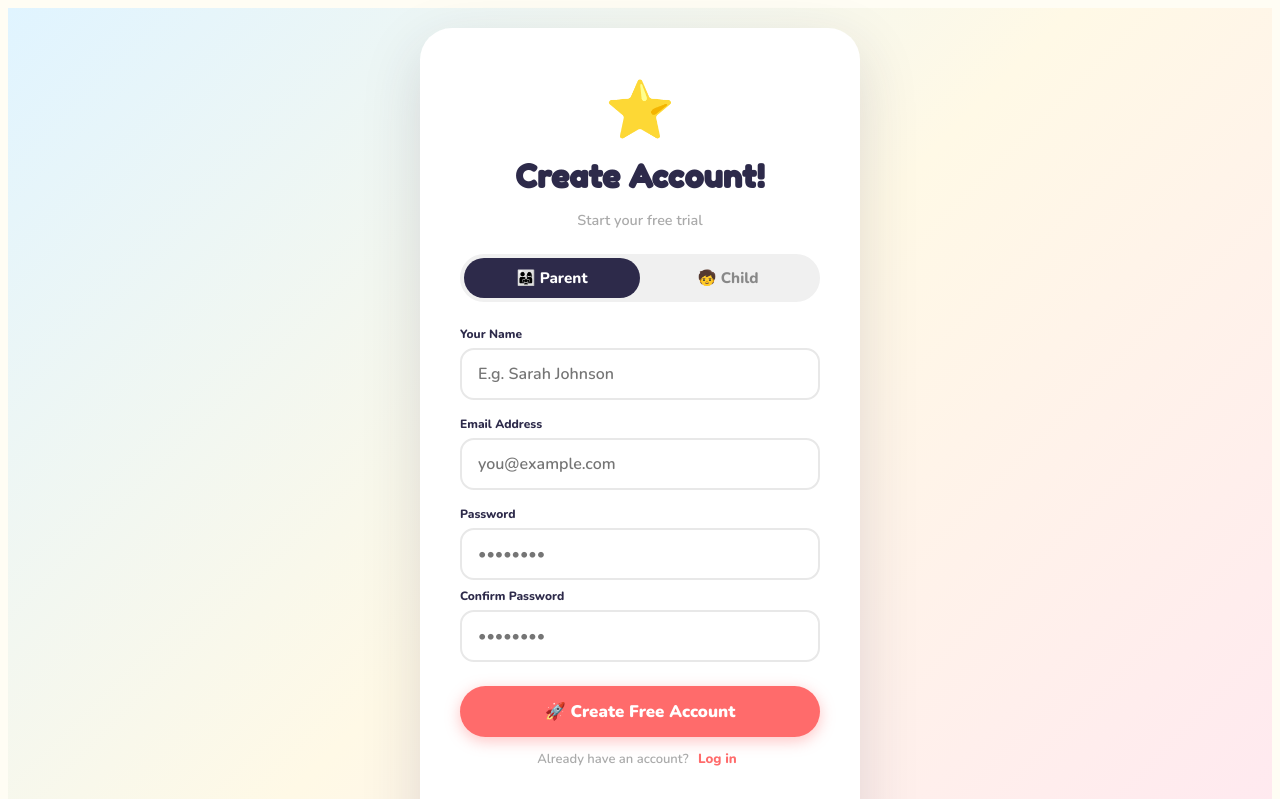
Test: 🔐 Auth Screen — Parent › shows error when passwords dont match on signup
Type "Test User" into the field with placeholder "E.g. Sarah Johnson".
click(640, 374); type("Test User")  # box [460,348,820,400]
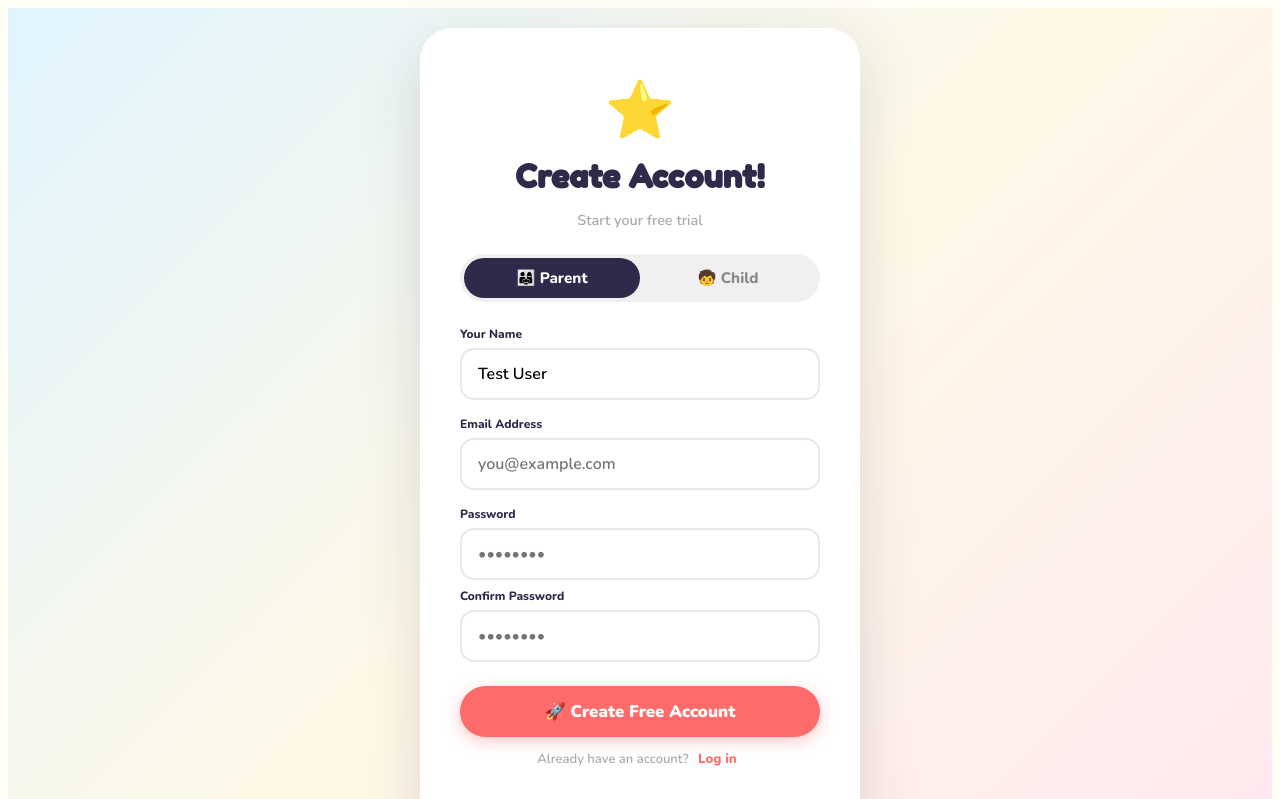
Type "test@test.com" into the field with placeholder "you@example.com".
click(640, 464); type("test@test.com")  # box [460,438,820,490]
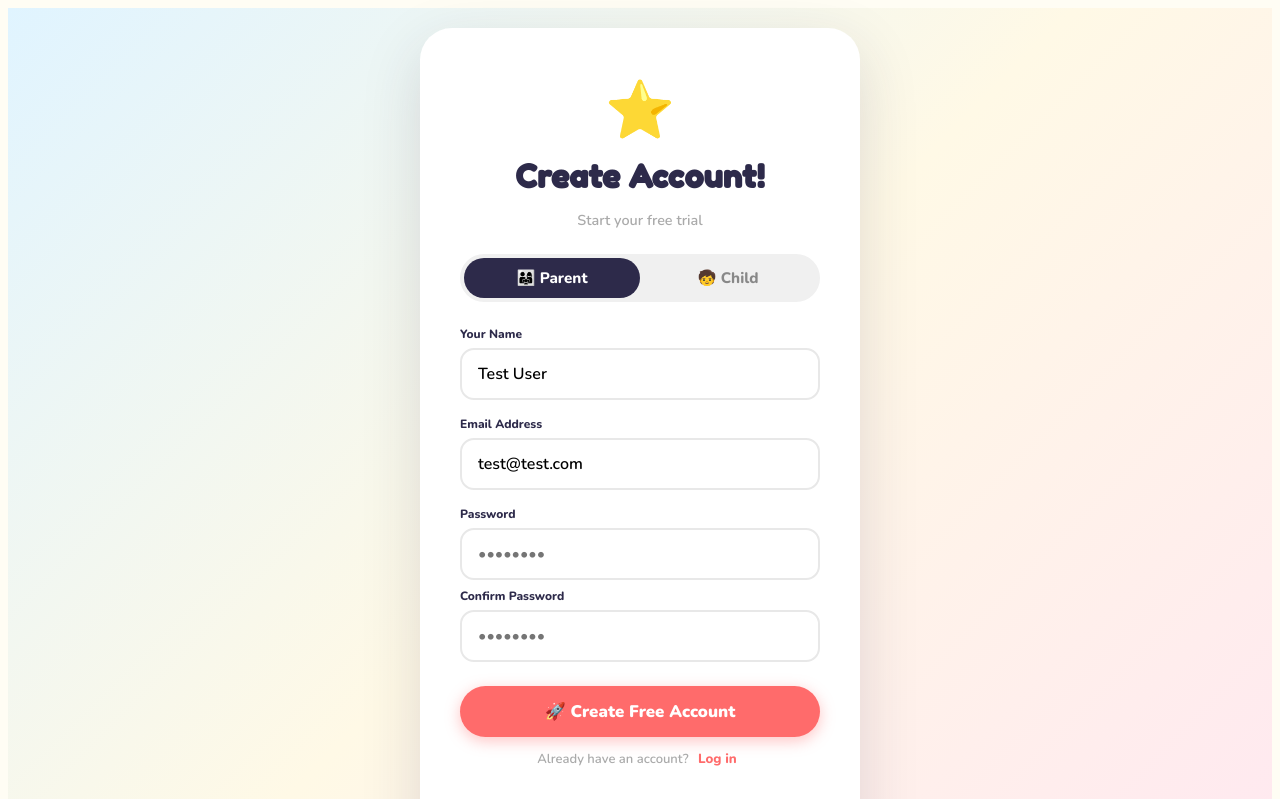
Type "password123" into the 1st password field with placeholder "••••••••".
click(640, 554); type("password123")  # box [460,528,820,580]
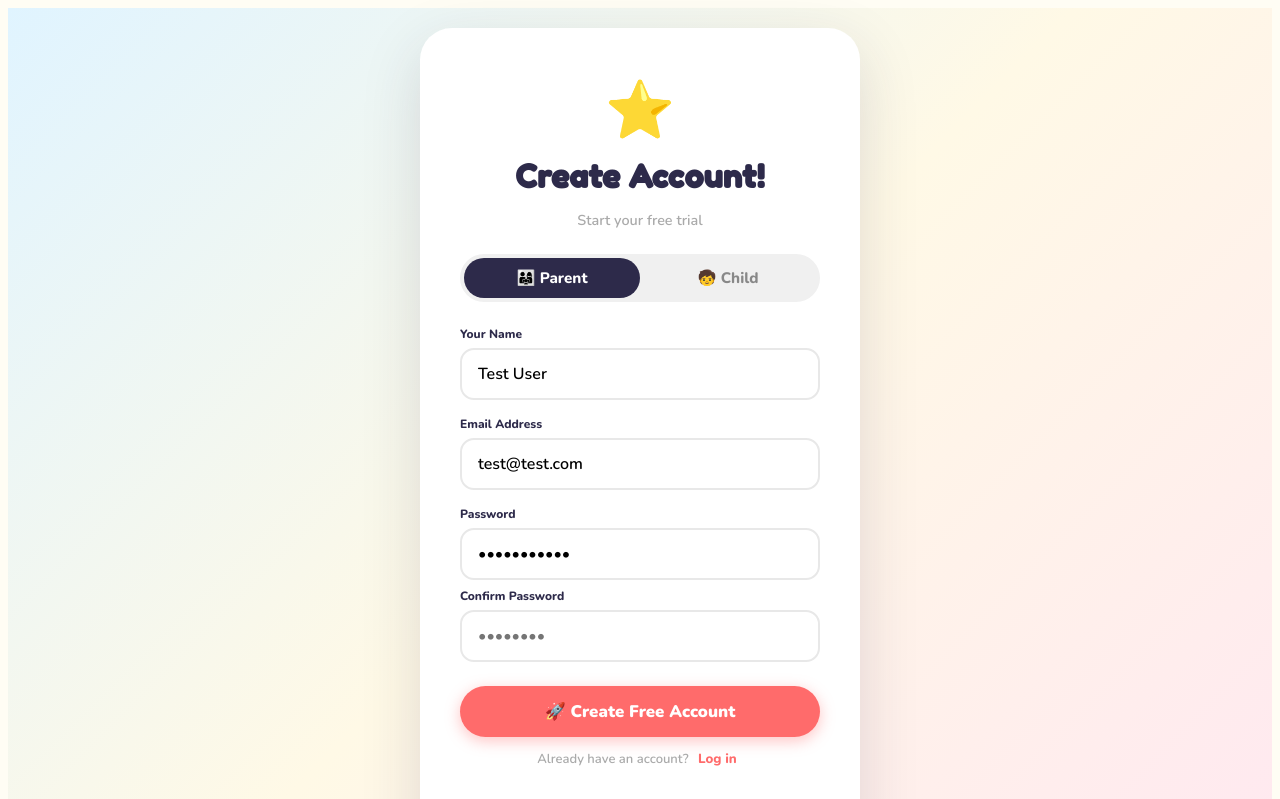
Type "different123" into the password field with placeholder "••••••••".
click(640, 636); type("different123")  # box [460,610,820,662]
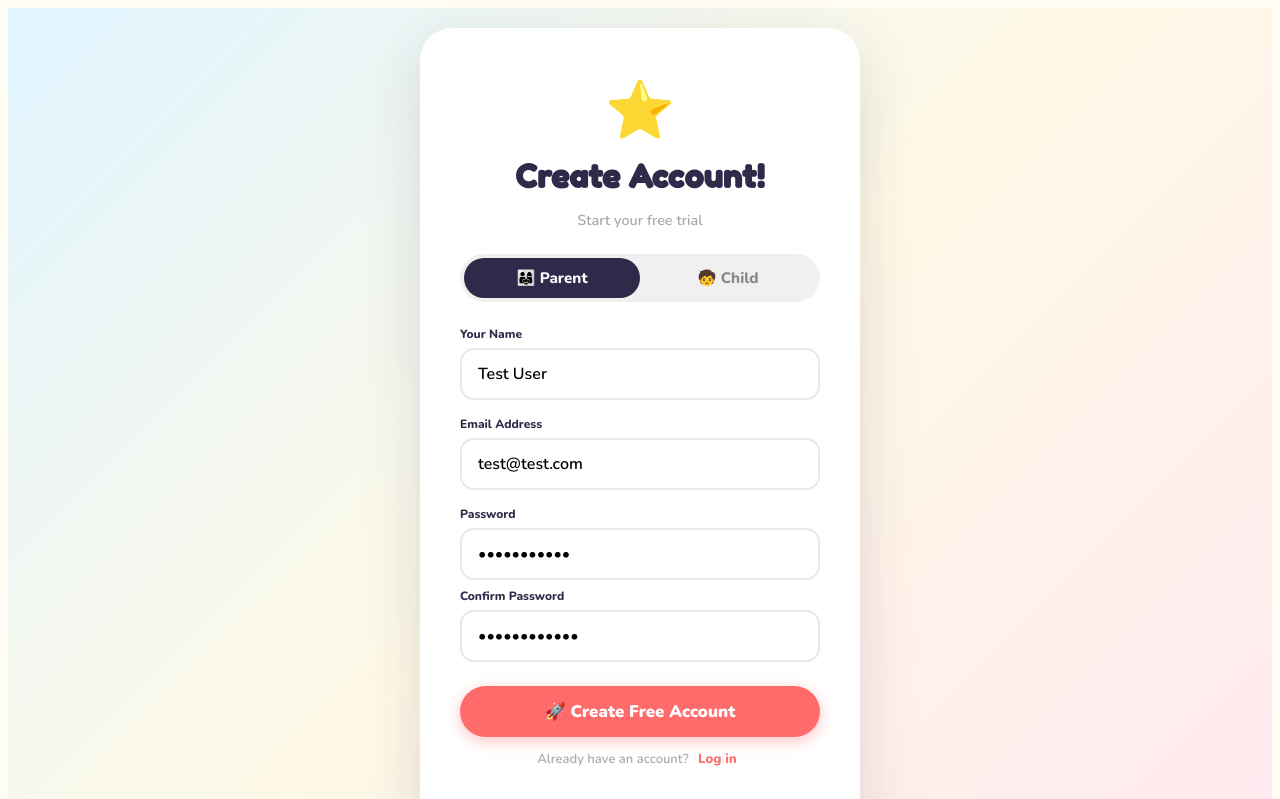
Click the button "🚀 Create Free Account".
click(640, 712)  # box [460,686,820,737]
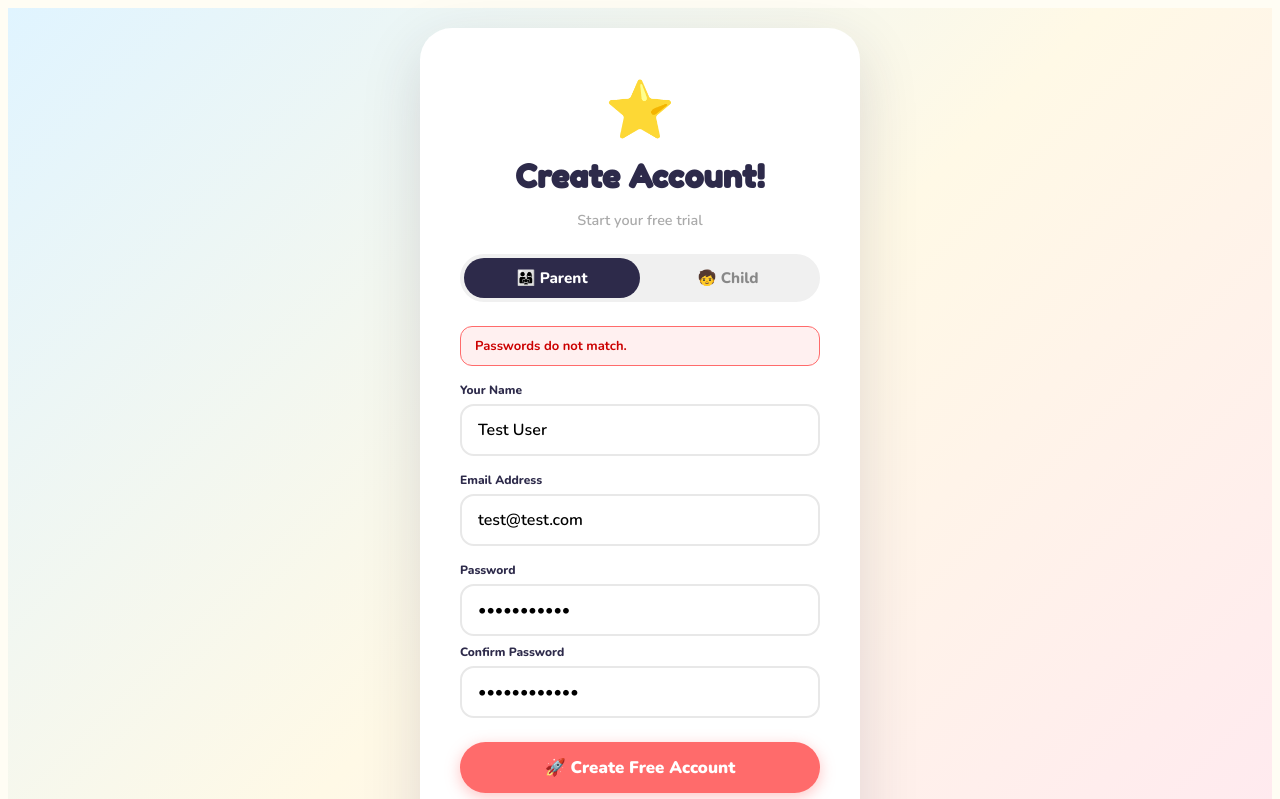
Expected: the text "Passwords do not match." is shown, [460,326,820,366]
